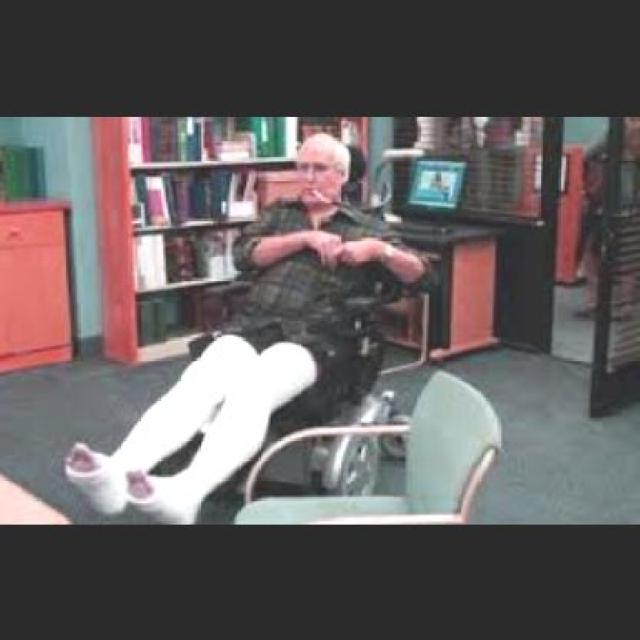wheelchairs: (182, 263, 435, 503)
